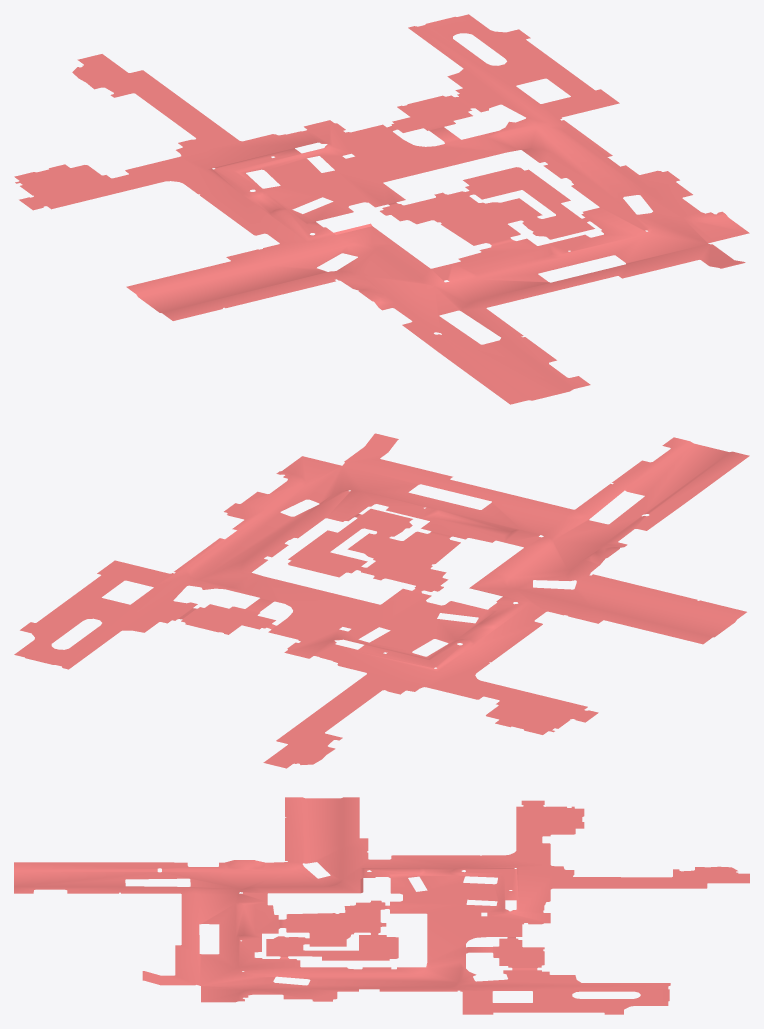
File: Prohibited_AVENUE.fbx
3 renders of one model, top to bottom at view 1: azimuth 30°, elevation 25°; view 2: azimuth 150°, elevation 25°; view 3: azimuth 270°, elevation 25°, orthographic. The views are drawn at different scales.
Visible parts, largest first — view 1: Downtown; view 2: Downtown; view 3: Downtown.
Part boxes in pixels (x1=…): Downtown: x1=14, y1=14, x2=749, y2=404; Downtown: x1=14, y1=433, x2=749, y2=768; Downtown: x1=14, y1=797, x2=749, y2=1014.
Size of the model in its own units: 83.1 by 1.03 by 119.
